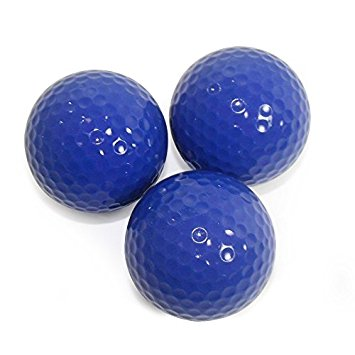blue ball: (124, 170, 275, 322), (24, 70, 168, 213), (168, 46, 310, 186)
